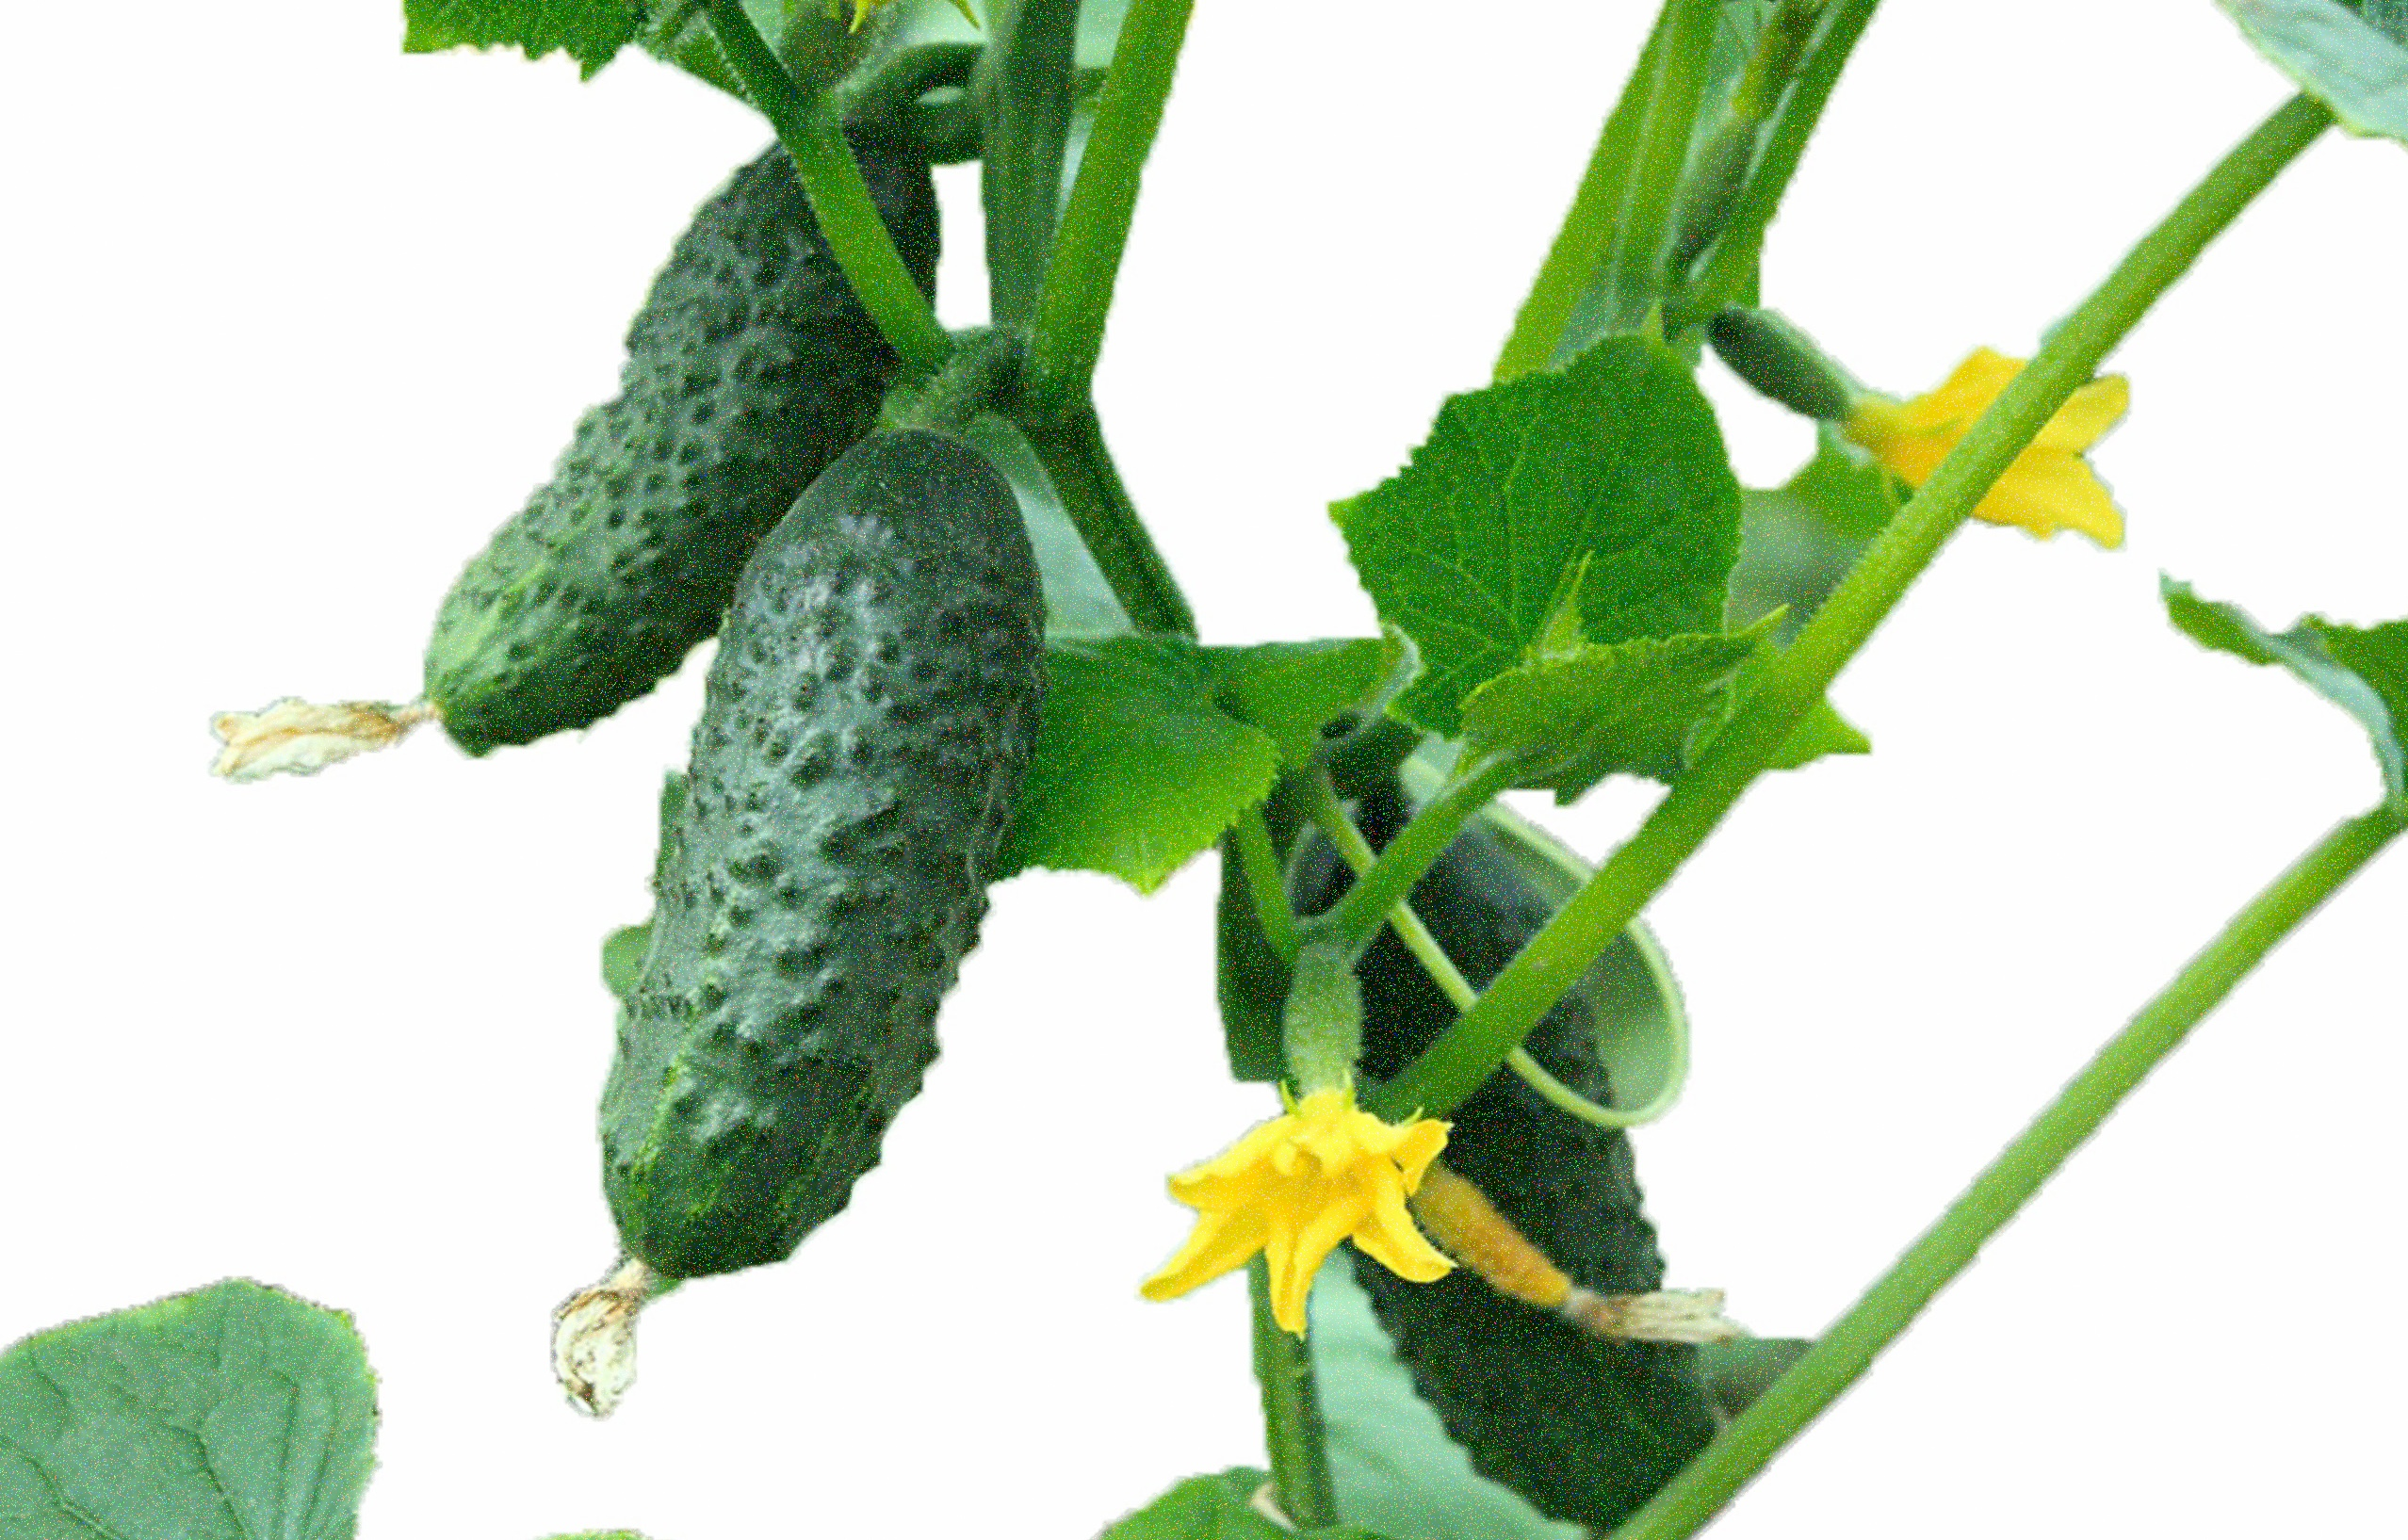cucumber: (367, 100, 985, 772), (595, 435, 1039, 1293)
cucumber_plant: (1100, 9, 2162, 1503)
